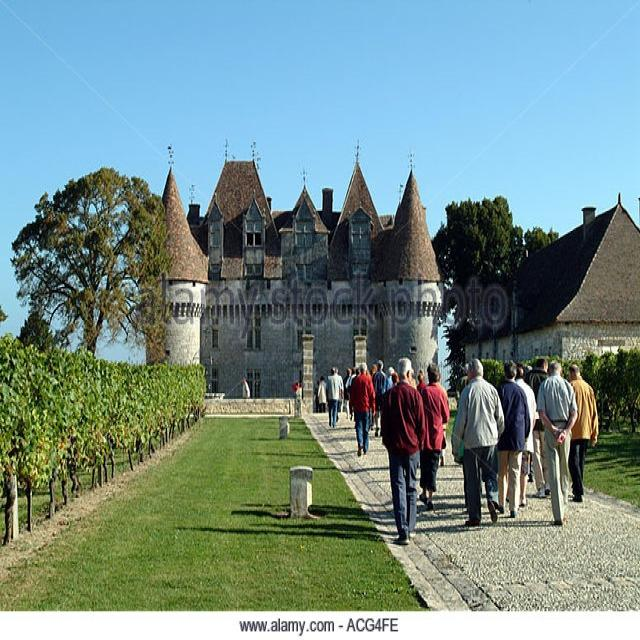body: (180, 485, 574, 541), (451, 357, 506, 528), (378, 354, 426, 547), (321, 424, 465, 484), (535, 357, 579, 527), (492, 357, 533, 521), (415, 362, 450, 512), (566, 362, 600, 505), (522, 356, 553, 501), (513, 363, 538, 509), (341, 360, 426, 399), (347, 360, 377, 458), (371, 358, 389, 438), (324, 364, 342, 430), (317, 375, 329, 413), (311, 378, 319, 413)
